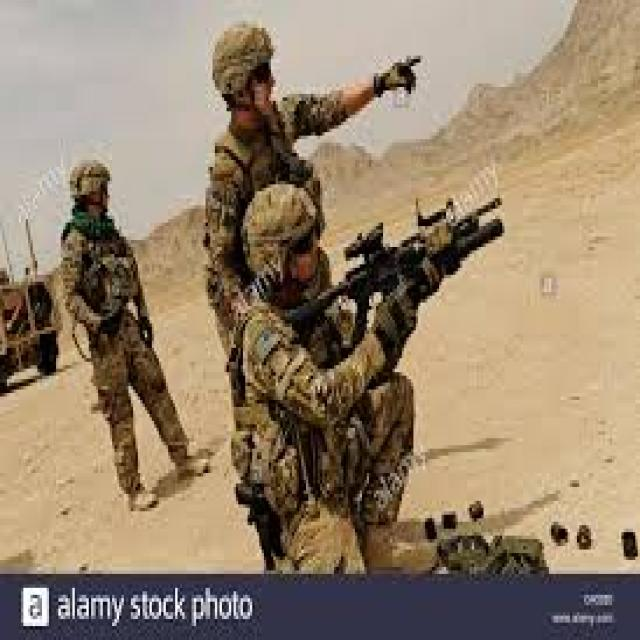soldier: (244, 186, 496, 578), (60, 147, 211, 517), (204, 15, 368, 159)
